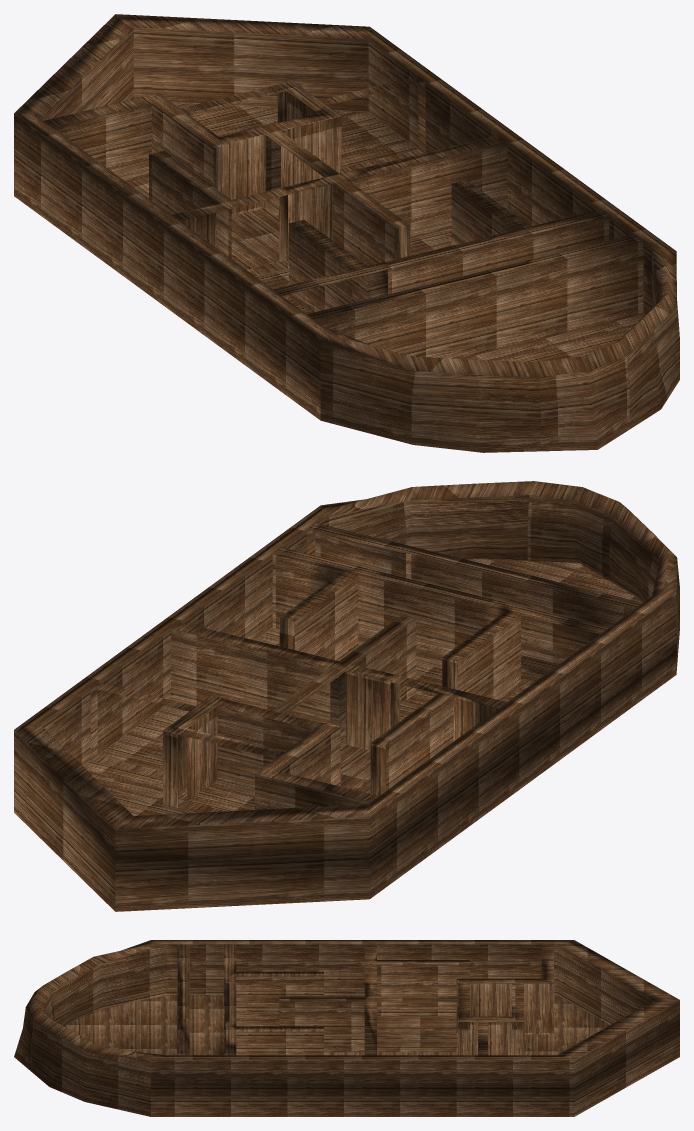
Rendered from ship_base1.fbx.
The picture shows the model from 3 angles, top to bottom: view 1: azimuth 30°, elevation 25°; view 2: azimuth 150°, elevation 25°; view 3: azimuth 270°, elevation 25°; orthographic projection. The views are drawn at different scales.
Parts seen in each view (by area): view 1: pCube24; view 2: pCube24; view 3: pCube24.
Boxes of the visible parts, x1,y1,x2,y2 form: pCube24: (14, 14, 679, 452); pCube24: (14, 481, 679, 911); pCube24: (14, 940, 679, 1116).
Size of the model in its own units: 5112 by 1135 by 12004.
